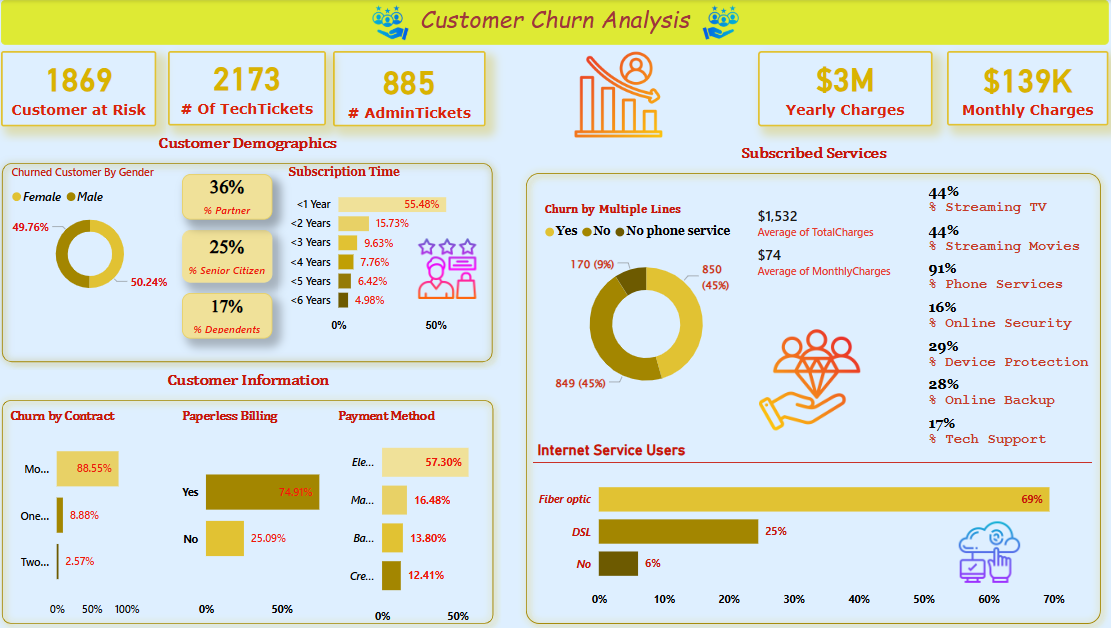

The dashboard page shown, as its layout file describes it:
{"tool":"powerbi","page":{"name":"Visualization","canvas":[1280,720],"ordinal":0},"visuals":[{"type":"card","fields":{"Values":["Count(01 Churn-Dataset.customerID)"]},"box":[8,58.5,177.3,86],"z":0},{"type":"card","fields":{"Values":["Sum(01 Churn-Dataset.numAdminTickets)"]},"box":[386.6,58.5,173.8,86],"z":1000},{"type":"card","fields":{"Values":["Sum(01 Churn-Dataset.numTechTickets)"]},"box":[197.7,58.5,180,85.1],"z":2000},{"type":"card","fields":{"Values":["Sum(01 Churn-Dataset.TotalCharges)"]},"box":[870.7,58.5,198.6,86],"z":3000},{"type":"card","fields":{"Values":["Sum(01 Churn-Dataset.MonthlyCharges)"]},"box":[1085.3,58.5,184.4,85.1],"z":4000},{"type":"donutChart","title":"Churned Customer By Gender","fields":{"Category":["01 Churn-Dataset.gender"],"Y":["CountNonNull(01 Churn-Dataset.gender)"]},"box":[15.1,188,188.9,157.8],"z":5000},{"type":"barChart","title":"Subscription Time","fields":{"Category":["01 Churn-Dataset.Tenure in Years"],"Y":["CountNonNull(01 Churn-Dataset.Churn)"]},"box":[330.7,188,242.1,198.6],"z":6000},{"type":"card","fields":{"Values":["01 Churn-Dataset.% Senior Citizen"]},"box":[214.6,262.5,102.9,60.3],"z":7000},{"type":"card","fields":{"Values":["01 Churn-Dataset.% Partner"]},"box":[214.6,197.7,102.9,52.3],"z":8000},{"type":"card","fields":{"Values":["01 Churn-Dataset.% Dependents"]},"box":[214.6,334.3,102.9,52.3],"z":9000},{"type":"barChart","title":"Payment Method","fields":{"Category":["01 Churn-Dataset.PaymentMethod"],"Y":["CountNonNull(01 Churn-Dataset.Churn)"]},"box":[386.6,465.5,210.1,254.5],"z":10000},{"type":"barChart","title":"Paperless Billing","fields":{"Category":["01 Churn-Dataset.PaperlessBilling"],"Y":["CountNonNull(01 Churn-Dataset.Churn)"]},"box":[208.4,465.5,218.1,246.5],"z":11000},{"type":"multiRowCard","fields":{"Values":["Avg(01 Churn-Dataset.TotalCharges)","Avg(01 Churn-Dataset.MonthlyCharges)"]},"box":[864.5,230.5,188.9,103.7],"z":12000},{"type":"barChart","title":"Churn by Contract","fields":{"Category":["01 Churn-Dataset.Contract"],"Y":["CountNonNull(01 Churn-Dataset.Churn)"]},"box":[12.4,465.5,185.3,246.5],"z":13000},{"type":"multiRowCard","fields":{"Values":["01 Churn-Dataset.% Streaming TV","01 Churn-Dataset.% Streaming Movies","01 Churn-Dataset.% Phone Services","01 Churn-Dataset.% Online Security","01 Churn-Dataset.% Device Protection","01 Churn-Dataset.% Online Backup","01 Churn-Dataset.% Tech Support"]},"box":[1059.6,208.4,210.1,308.6],"z":14000},{"type":"donutChart","title":" Churn by Multiple Lines ","fields":{"Category":["01 Churn-Dataset.MultipleLines"],"Y":["CountNonNull(01 Churn-Dataset.Churn)"],"Series":["01 Churn-Dataset.Churn"]},"box":[622.5,231.4,242.1,234.1],"z":15000},{"type":"textbox","box":[7.6,0,1262.2,51],"z":16000},{"type":"image","box":[572.4,51,279.2,113.5],"z":17000},{"type":"shape","title":"Customer Demographics","box":[0,153,577.5,279.2],"z":18000},{"type":"shape","title":"Subscribed Services","box":[596.7,164.5,673.1,555.9],"z":20000},{"type":"barChart","title":"Internet Service Users","fields":{"Category":["01 Churn-Dataset.InternetService"],"Y":["CountNonNull(01 Churn-Dataset.InternetService)"]},"box":[614.5,502.3,637.5,198.9],"z":21000},{"type":"shape","title":"Customer Information","box":[0,423,578.1,297],"z":22000},{"type":"image","box":[864.4,362.1,128.8,140.2],"z":22001},{"type":"image","box":[756,0,142.8,51],"z":22002},{"type":"image","box":[473,266.5,86.7,79],"z":22003},{"type":"image","box":[1014.8,589,237.1,80.3],"z":22005},{"type":"image","box":[401.6,0,99.4,51],"z":22006}]}

Visuals, with their boxes in screenshot pixels (x1, y1, x2, y2), scaled from the page's 1280x720 canvas onto the 1111x628 screenshot:
card - Count(01 Churn-Dataset.customerID): {"x1": 7, "y1": 51, "x2": 161, "y2": 126}
card - Sum(01 Churn-Dataset.numAdminTickets): {"x1": 336, "y1": 51, "x2": 486, "y2": 126}
card - Sum(01 Churn-Dataset.numTechTickets): {"x1": 172, "y1": 51, "x2": 328, "y2": 125}
card - Sum(01 Churn-Dataset.TotalCharges): {"x1": 756, "y1": 51, "x2": 928, "y2": 126}
card - Sum(01 Churn-Dataset.MonthlyCharges): {"x1": 942, "y1": 51, "x2": 1102, "y2": 125}
"Churned Customer By Gender" donutChart: {"x1": 13, "y1": 164, "x2": 177, "y2": 302}
"Subscription Time" barChart: {"x1": 287, "y1": 164, "x2": 497, "y2": 337}
card - 01 Churn-Dataset.% Senior Citizen: {"x1": 186, "y1": 229, "x2": 276, "y2": 282}
card - 01 Churn-Dataset.% Partner: {"x1": 186, "y1": 172, "x2": 276, "y2": 218}
card - 01 Churn-Dataset.% Dependents: {"x1": 186, "y1": 292, "x2": 276, "y2": 337}
"Payment Method" barChart: {"x1": 336, "y1": 406, "x2": 518, "y2": 627}
"Paperless Billing" barChart: {"x1": 181, "y1": 406, "x2": 370, "y2": 621}
multiRowCard - Avg(01 Churn-Dataset.TotalCharges) x Avg(01 Churn-Dataset.MonthlyCharges): {"x1": 750, "y1": 201, "x2": 914, "y2": 291}
"Churn by Contract" barChart: {"x1": 11, "y1": 406, "x2": 172, "y2": 621}
multiRowCard - 01 Churn-Dataset.% Streaming TV x 01 Churn-Dataset.% Streaming Movies: {"x1": 920, "y1": 182, "x2": 1102, "y2": 451}
" Churn by Multiple Lines " donutChart: {"x1": 540, "y1": 202, "x2": 750, "y2": 406}
textbox: {"x1": 7, "y1": 0, "x2": 1102, "y2": 44}
image: {"x1": 497, "y1": 44, "x2": 739, "y2": 143}
"Customer Demographics" shape: {"x1": 0, "y1": 133, "x2": 501, "y2": 377}
"Subscribed Services" shape: {"x1": 518, "y1": 143, "x2": 1102, "y2": 627}
"Internet Service Users" barChart: {"x1": 533, "y1": 438, "x2": 1087, "y2": 612}
"Customer Information" shape: {"x1": 0, "y1": 369, "x2": 502, "y2": 627}
image: {"x1": 750, "y1": 316, "x2": 862, "y2": 438}
image: {"x1": 656, "y1": 0, "x2": 780, "y2": 44}
image: {"x1": 411, "y1": 232, "x2": 486, "y2": 301}
image: {"x1": 881, "y1": 514, "x2": 1087, "y2": 584}
image: {"x1": 349, "y1": 0, "x2": 435, "y2": 44}
